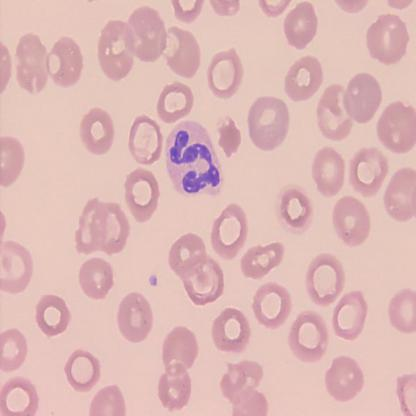Segmented neutrophil: (162, 117, 224, 200)
